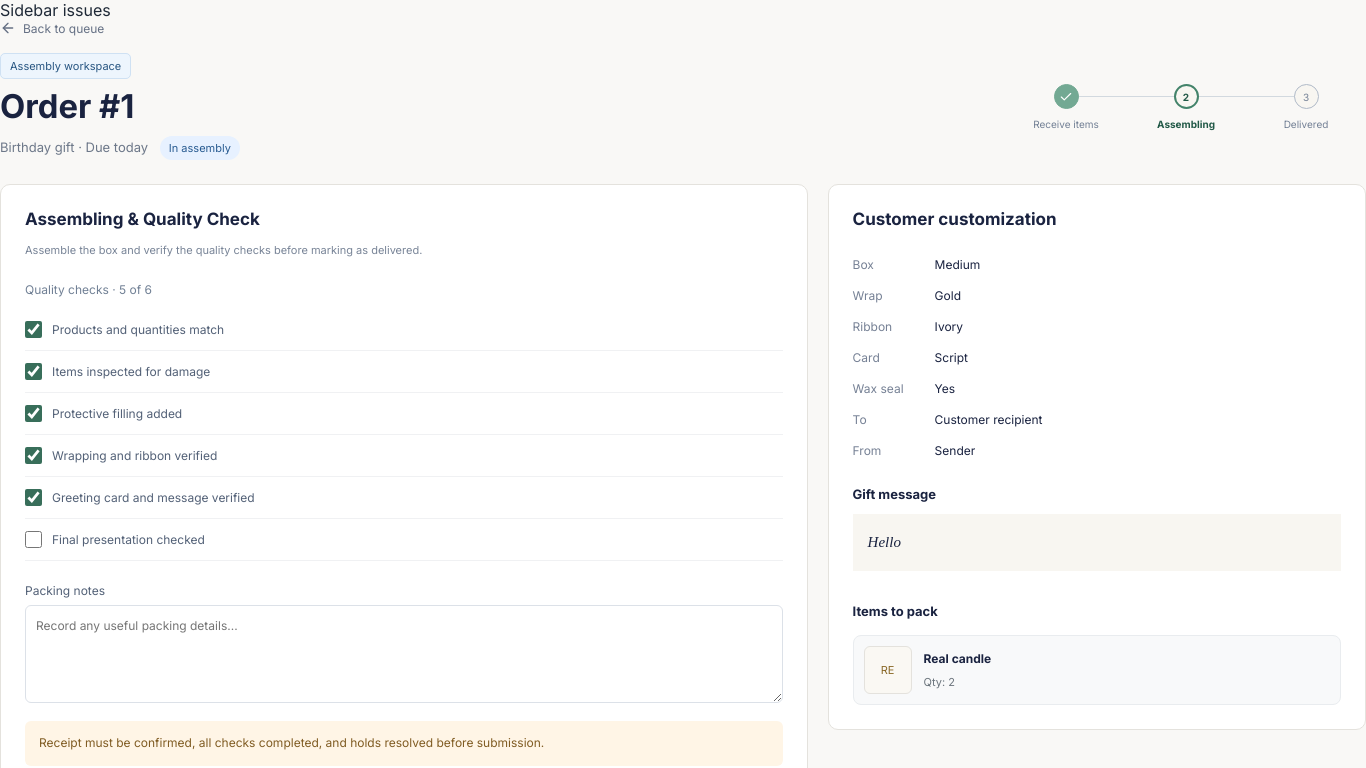
Scenario: failed save retains changes and shows the server error
What coordinates should you click on to do the following:
click the checkbox labelled "Final presentation checked"
I would click on:
 (34, 539)
Its box is [25,531,42,548].
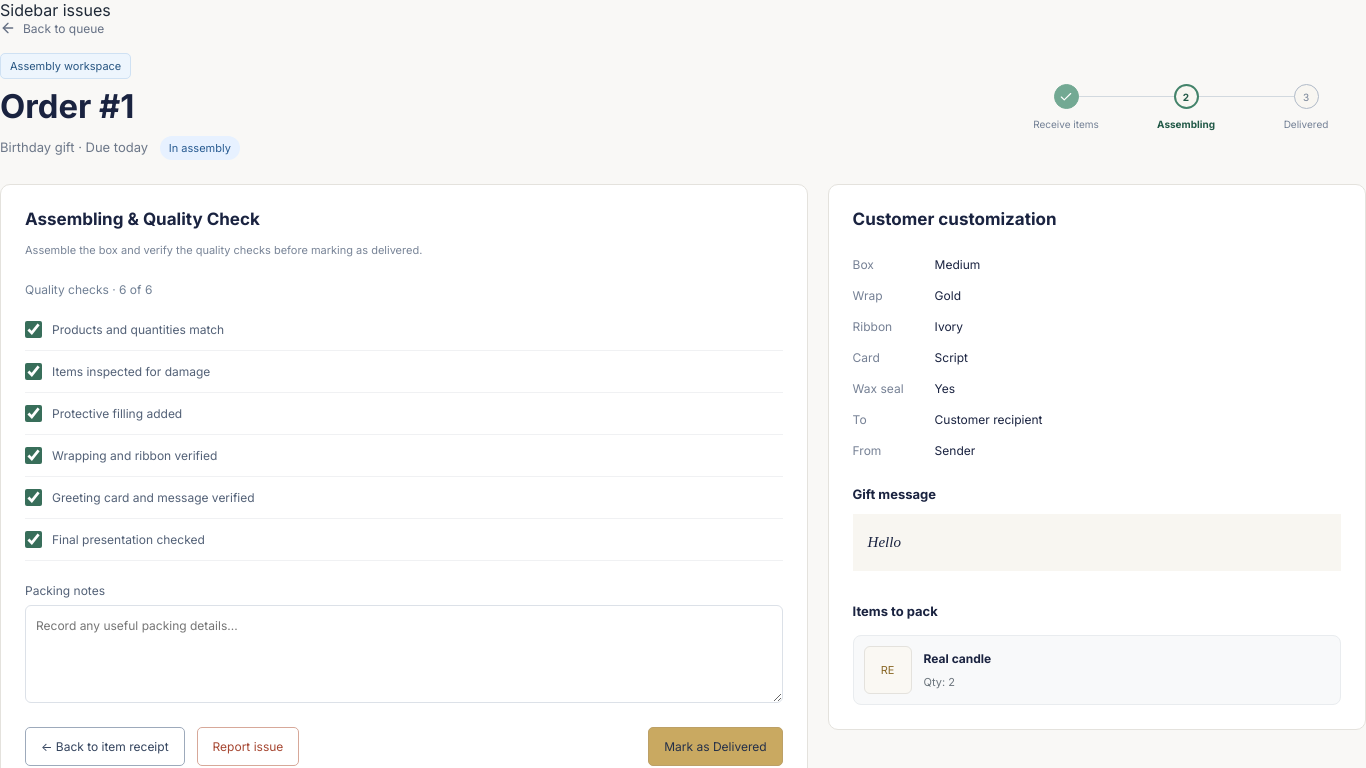
What coordinates should you click on to do the following:
click the button "Mark as Delivered"
I would click on:
 (715, 747)
Its box is [648,727,783,766].
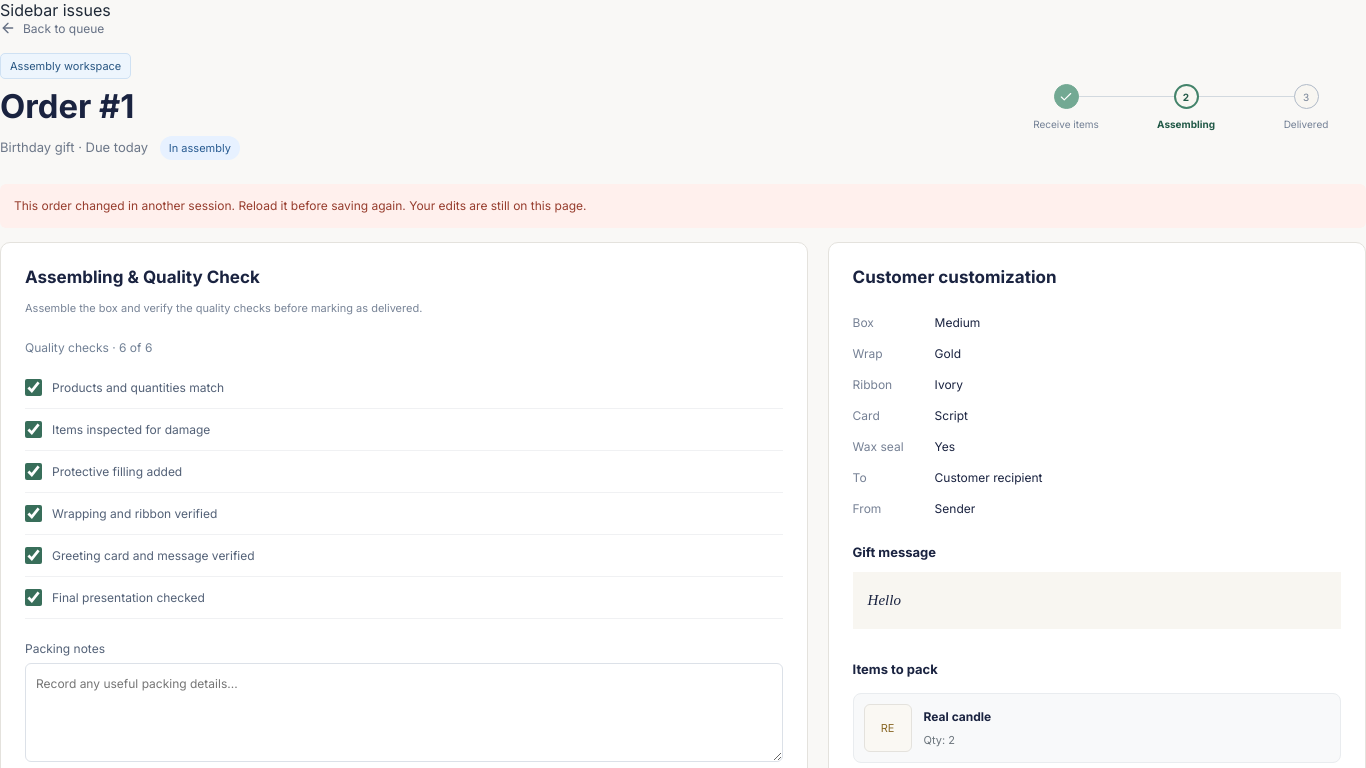
Expected: the checkbox labelled "Final presentation checked" is checked, [25,589,42,606]
Expected: the message shows "changed in another session", [14,198,586,213]
